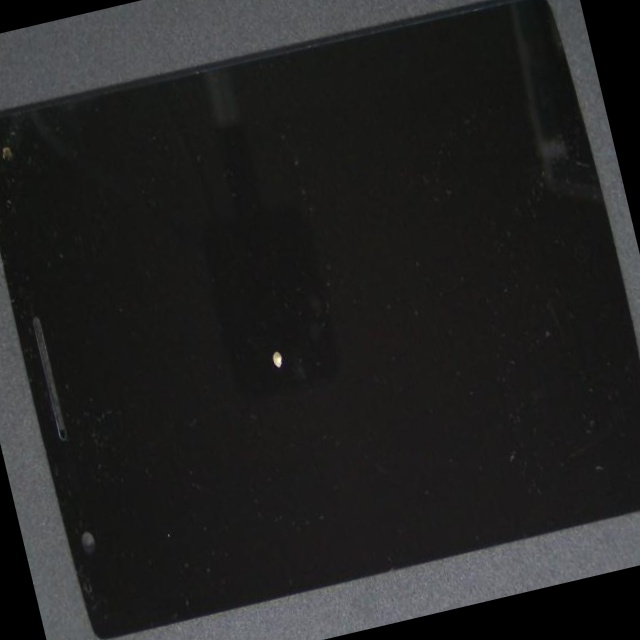stain: (78, 88, 442, 552)
